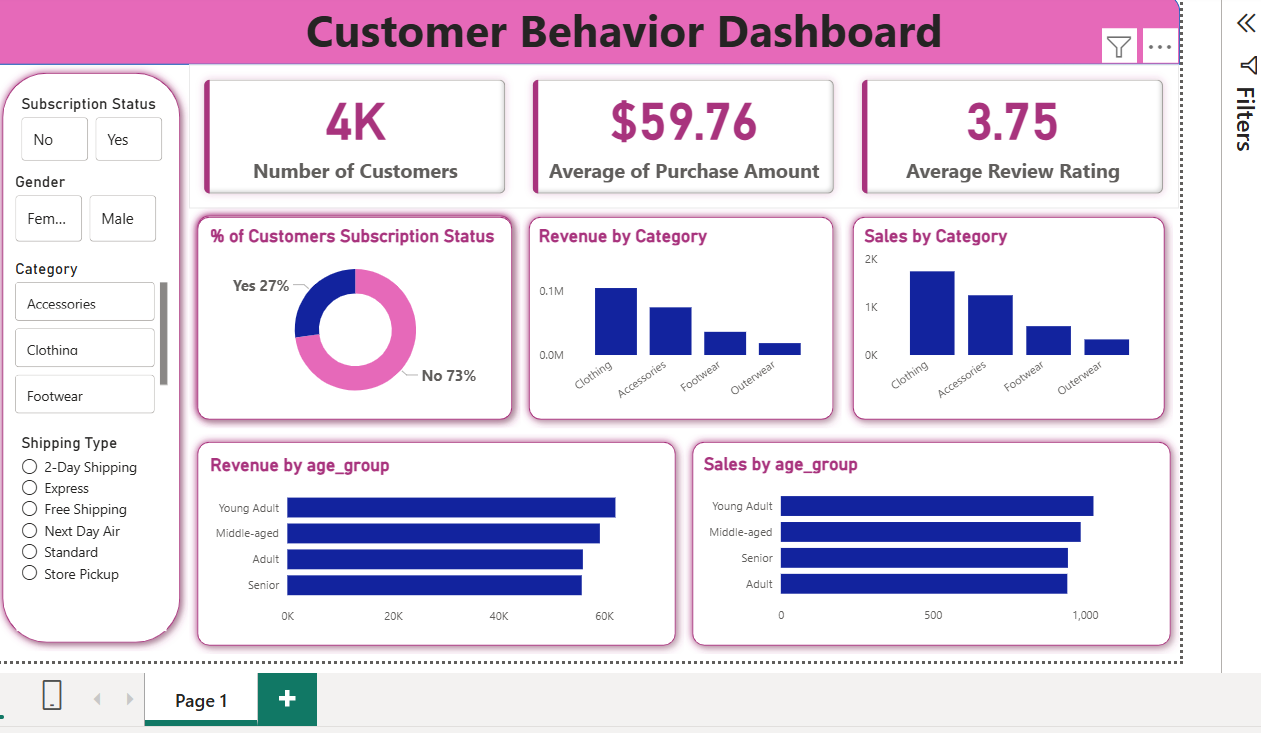

This screenshot's page, from the dashboard's own definition file:
{"tool":"powerbi","page":{"name":"Page 1","canvas":[1280,720],"ordinal":0},"visuals":[{"type":"shape","box":[917.8,232.2,354.7,237],"z":0,"group":"g5"},{"type":"shape","box":[210.5,474.4,534.3,238],"z":0},{"type":"group","id":"g1","title":"Group 1","box":[0,0,1280.4,76.3],"z":1000},{"type":"shape","box":[567.9,232.2,346.8,237],"z":1000,"group":"g4"},{"type":"group","id":"g2","title":"Group 2","box":[0,76.1,210.5,633.1],"z":2000},{"type":"shape","box":[0,0,1280.4,76.3],"z":3000,"group":"g1"},{"type":"cardVisual","fields":{"Data":["public customer.Number of Customers","public customer.Average of Purchase Amount","public customer.Average Review Rating"]},"box":[210.5,76.1,1068.7,155.4],"z":3000},{"type":"textbox","box":[119.3,0,1121.4,76.3],"z":4000,"group":"g1"},{"type":"group","id":"g3","title":"Group 3","box":[210.5,229.9,357.8,238],"z":4000},{"type":"shape","box":[210.5,229.9,357.9,237],"z":5000,"group":"g3"},{"type":"group","id":"g4","title":"Group 4","box":[210,232.2,704.6,237],"z":5000},{"type":"shape","box":[210,232.2,357.9,237],"z":5000,"group":"g4"},{"type":"group","id":"g5","title":"Group 5","box":[917.8,232.2,354.7,237],"z":6000},{"type":"donutChart","title":"% of  Customers Subscription Status","fields":{"Category":["public customer.Subscription Status"],"Y":["CountNonNull(public customer.Customer ID)"]},"box":[228,247.4,322.9,203.6],"z":6000,"group":"g3"},{"type":"donutChart","title":"% of  Customers Subscription Status","fields":{"Category":["public customer.Subscription Status"],"Y":["CountNonNull(public customer.Customer ID)"]},"box":[227.5,249.7,322.9,203.6],"z":6000,"group":"g4"},{"type":"clusteredColumnChart","title":"Revenue by Category","fields":{"Y":["Sum(public customer.Purchase Amount (USD))"],"Category":["public customer.Category"]},"box":[582.2,249.7,318.1,202],"z":7000,"group":"g4"},{"type":"clusteredBarChart","title":"Revenue by age_group","fields":{"Y":["Sum(public customer.Purchase Amount (USD))"],"Category":["public customer.age_group"]},"box":[228.3,497.1,502,192.7],"z":7000},{"type":"clusteredColumnChart","title":"Sales by Category","fields":{"Y":["CountNonNull(public customer.Customer ID)"],"Category":["public customer.Category"]},"box":[933.7,249.7,322.9,202],"z":8000,"group":"g5"},{"type":"shape","box":[744.8,474.4,534.3,238],"z":8000},{"type":"shape","box":[0,76.1,210,633.1],"z":9000,"group":"g2"},{"type":"clusteredBarChart","title":"Sales by age_group","fields":{"Category":["public customer.age_group"],"Y":["CountNonNull(public customer.Customer ID)"]},"box":[761,495.5,502,192.7],"z":9000},{"type":"advancedSlicerVisual","fields":{"Values":["public customer.Subscription Status"]},"box":[23.9,107.9,162.2,76.3],"z":10000,"group":"g2"},{"type":"advancedSlicerVisual","fields":{"Values":["public customer.Gender"]},"box":[17.5,192.2,162.2,79.5],"z":11000,"group":"g2"},{"type":"advancedSlicerVisual","fields":{"Values":["public customer.Category"]},"box":[17.5,286.1,175,171.8],"z":12000,"group":"g2"},{"type":"listSlicer","fields":{"Values":["public customer.Shipping Type"]},"box":[23.9,473.8,162.2,213.1],"z":13000,"group":"g2"}]}

Visuals, with their boxes in screenshot pixels (x1, y1, x2, y2):
shape: 840:211:1173:433
shape: 178:438:678:661
"Group 1" group: 0:0:1180:65
shape: 512:211:837:433
"Group 2" group: 0:65:178:658
shape: 0:0:1180:65
cardVisual - public customer.Number of Customers x public customer.Average of Purchase Amount: 178:65:1179:210
textbox: 92:0:1143:65
"Group 3" group: 178:209:513:432
shape: 178:209:513:431
"Group 4" group: 177:211:837:433
shape: 177:211:512:433
"Group 5" group: 840:211:1173:433
"% of  Customers Subscription Status" donutChart: 194:225:497:416
"% of  Customers Subscription Status" donutChart: 193:227:496:418
"Revenue by Category" clusteredColumnChart: 526:227:824:417
"Revenue by age_group" clusteredBarChart: 194:459:665:640
"Sales by Category" clusteredColumnChart: 855:227:1158:417
shape: 678:438:1179:661
shape: 0:65:177:658
"Sales by age_group" clusteredBarChart: 693:458:1164:638
advancedSlicerVisual - public customer.Subscription Status: 3:95:155:166
advancedSlicerVisual - public customer.Gender: 0:174:149:248
advancedSlicerVisual - public customer.Category: 0:262:161:423
listSlicer - public customer.Shipping Type: 3:437:155:637
